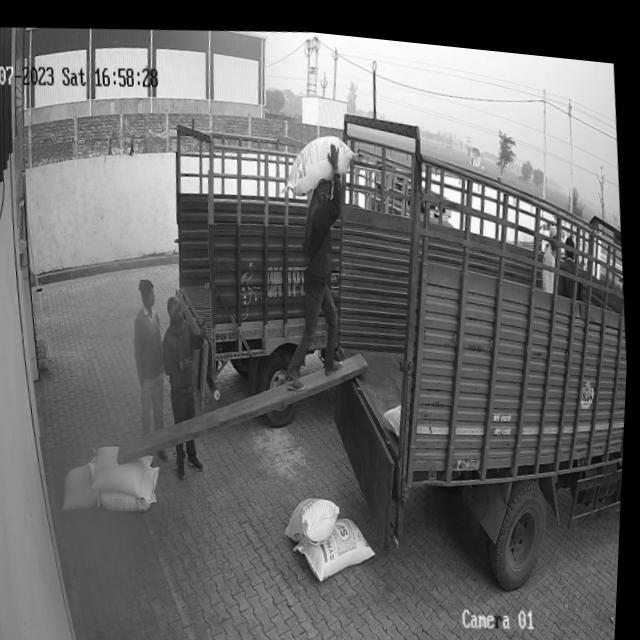sack: (295, 501, 384, 581), (282, 123, 360, 196), (90, 436, 160, 501), (284, 484, 347, 543), (99, 458, 166, 511), (63, 458, 105, 511)
